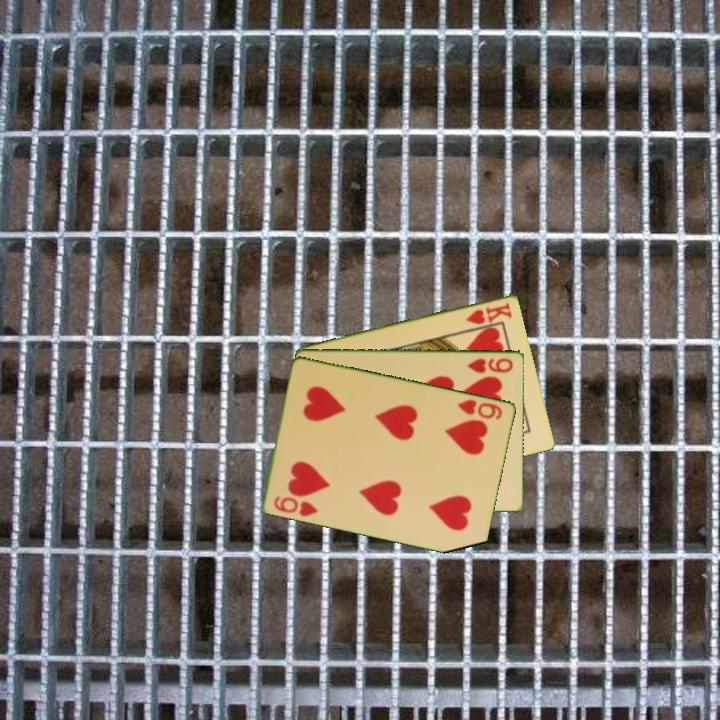6h: (271, 492, 321, 519), (454, 396, 505, 422)
9h: (464, 355, 516, 376)
Kh: (462, 299, 515, 327)
